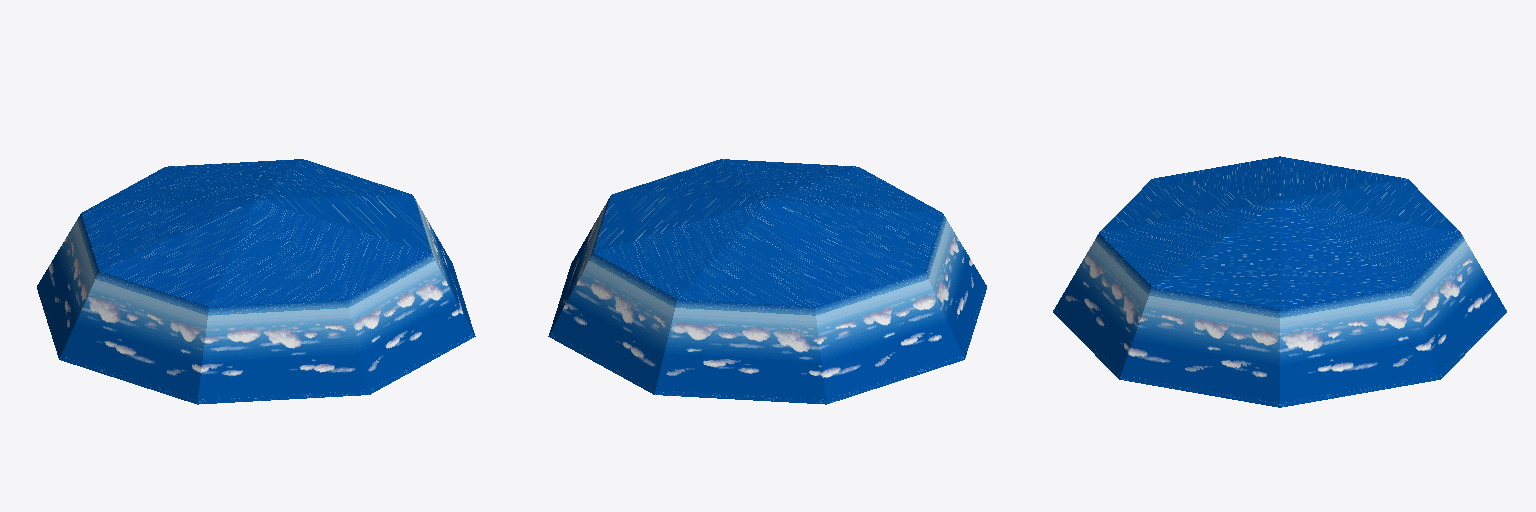
The picture shows the model from 3 angles: view 1: azimuth 30°, elevation 25°; view 2: azimuth 150°, elevation 25°; view 3: azimuth 270°, elevation 25°; orthographic projection.
Visible parts, largest first — view 1: sky; view 2: sky; view 3: sky.
Boxes of the visible parts, box(x1,y1,x2,y2) form: sky: box(37, 159, 475, 404); sky: box(548, 159, 986, 404); sky: box(1053, 156, 1506, 407).
Size of the model in its own units: 745 by 202 by 745.
Materials: 1 (1 with a texture image).